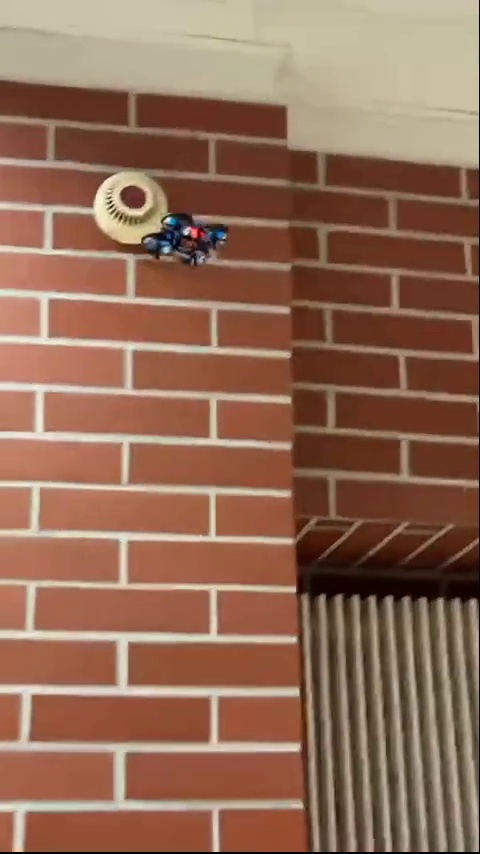drone: (141, 212, 225, 263)
